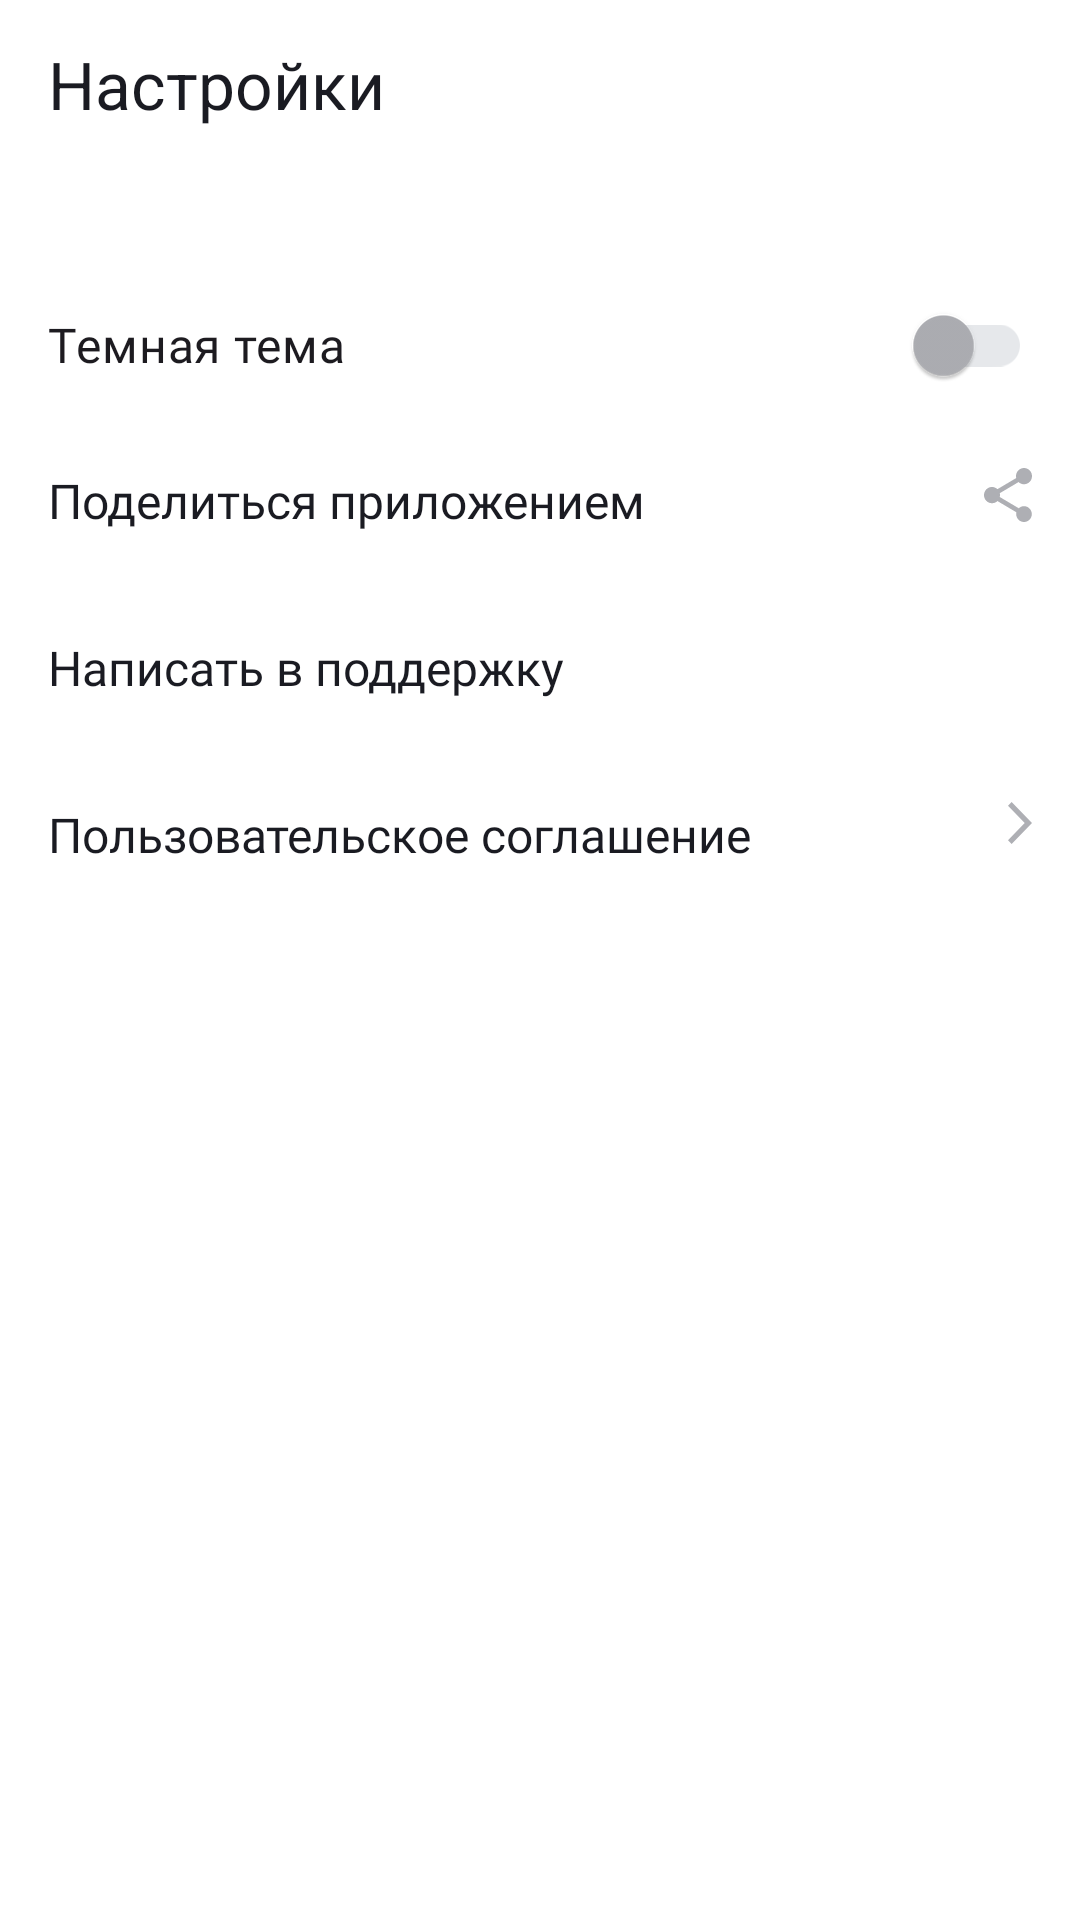

Icon click points for this 1080x1920 phone screenshot, format [x,y]:
arrow forward: [1020,823]
share: [1008,495]
